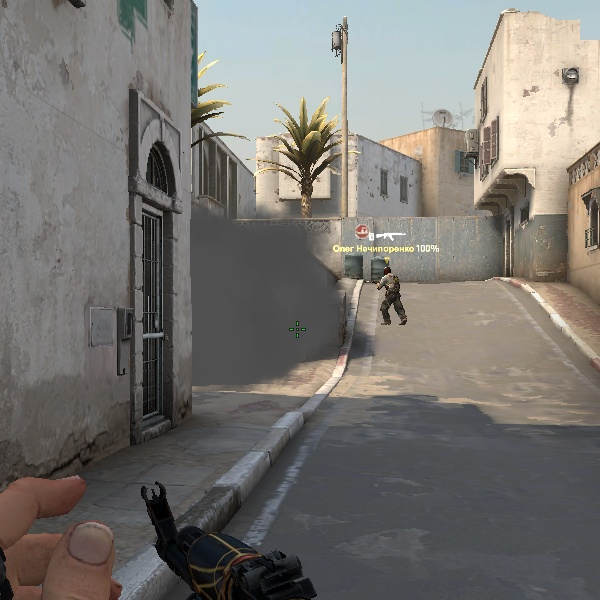t_body: (373, 266, 408, 326)
t_head: (384, 266, 391, 275)
